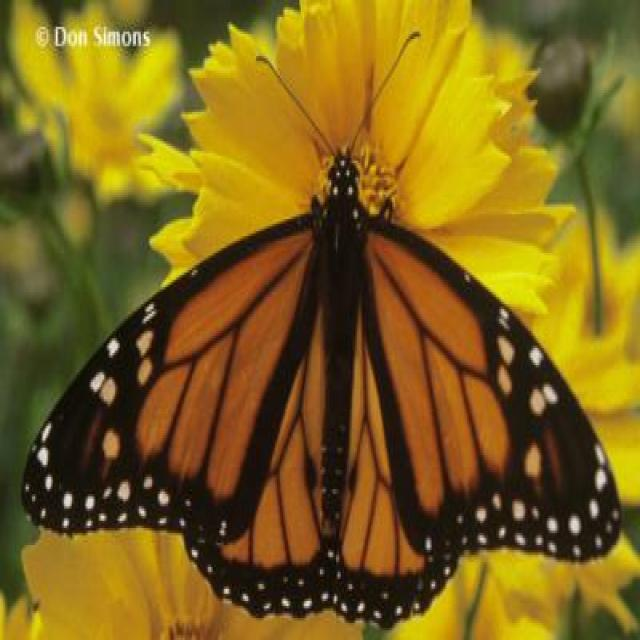antennae: (249, 33, 434, 167)
body: (316, 155, 366, 526)
insect: (19, 31, 622, 623)
wings: (25, 207, 333, 620), (348, 208, 622, 622)
